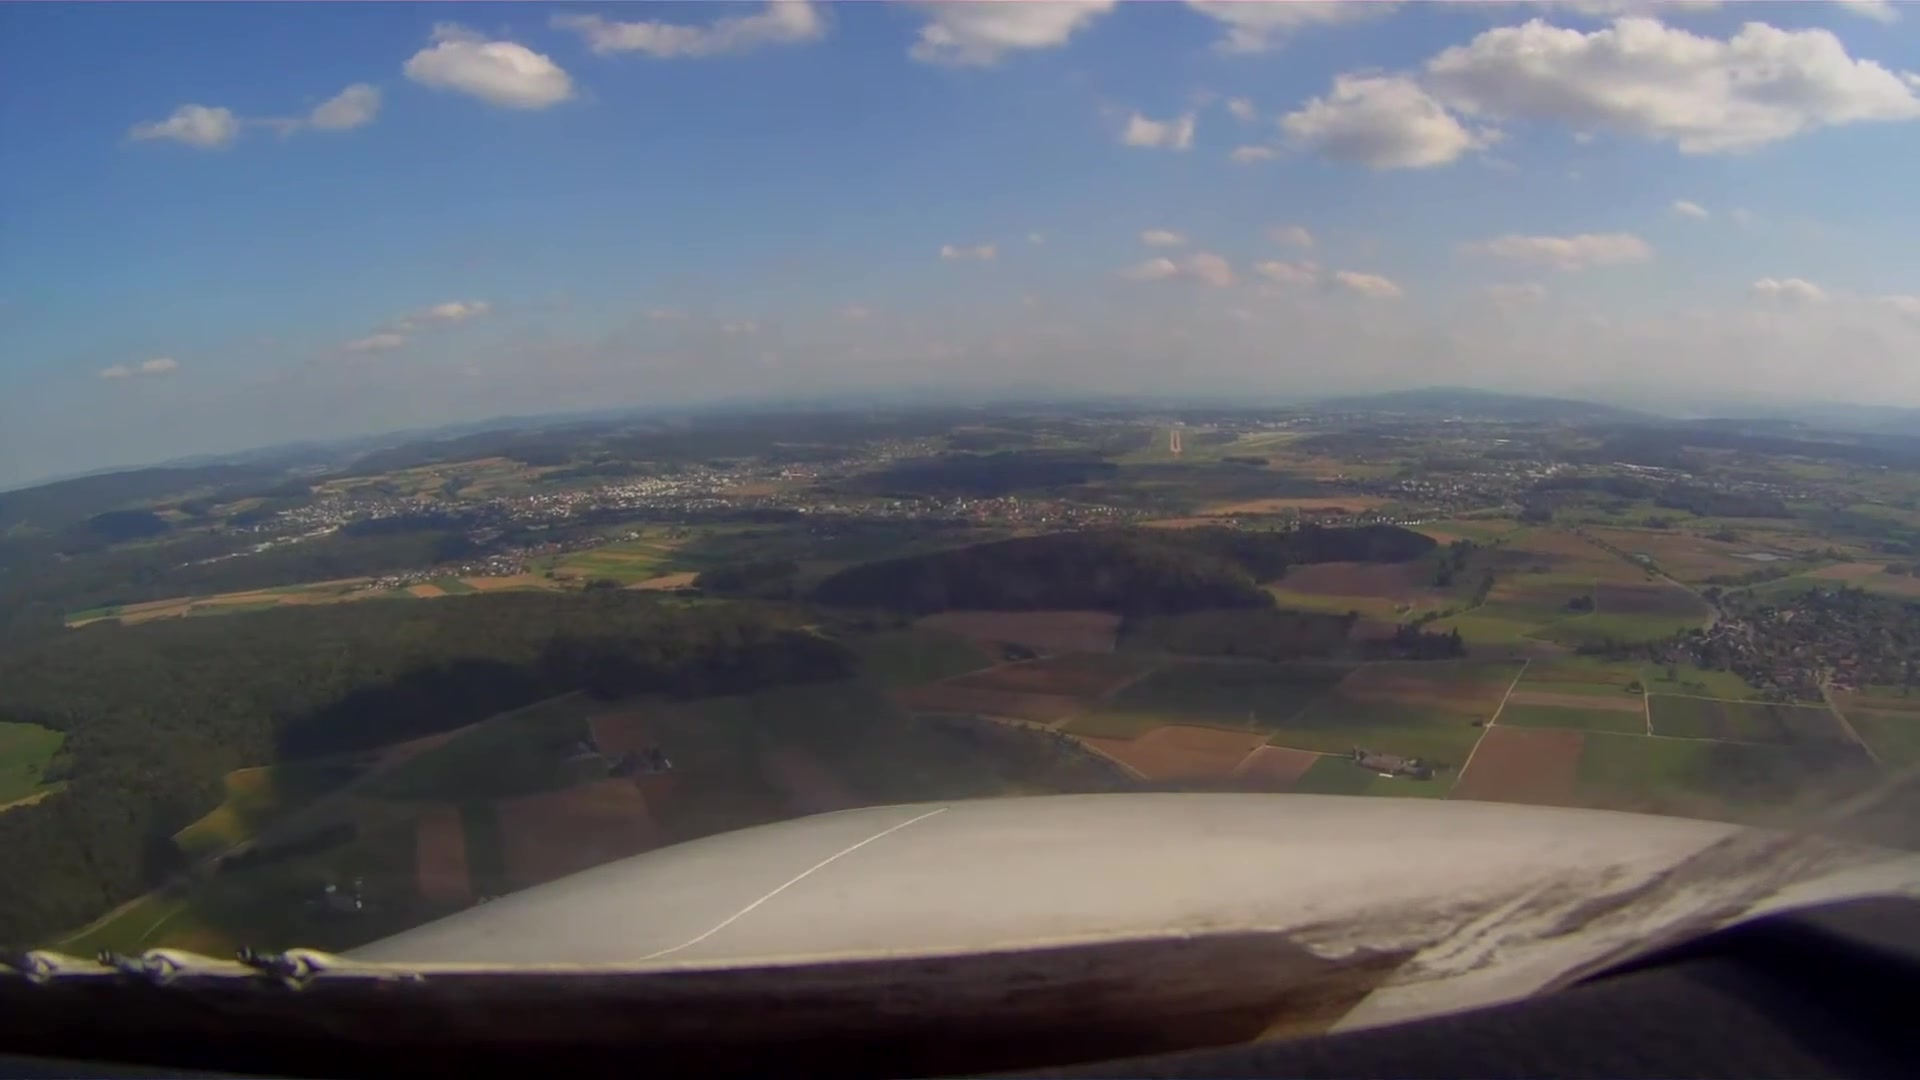runway: (1167, 429, 1182, 455)
